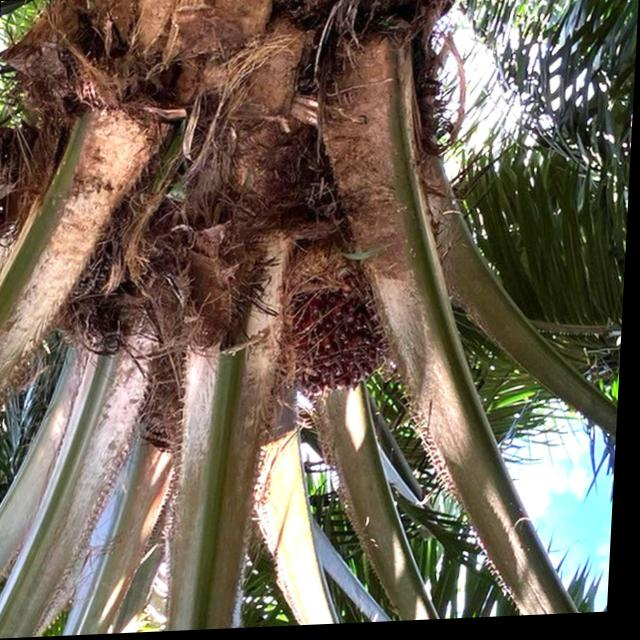ripe: (255, 237, 418, 412)
